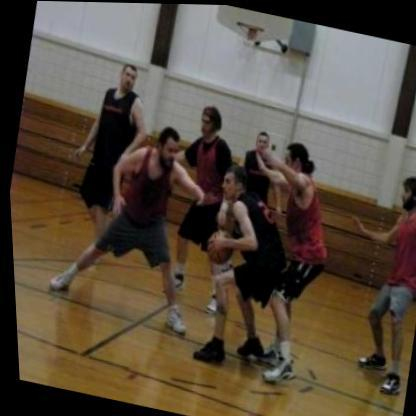basketball: (197, 222, 237, 269)
